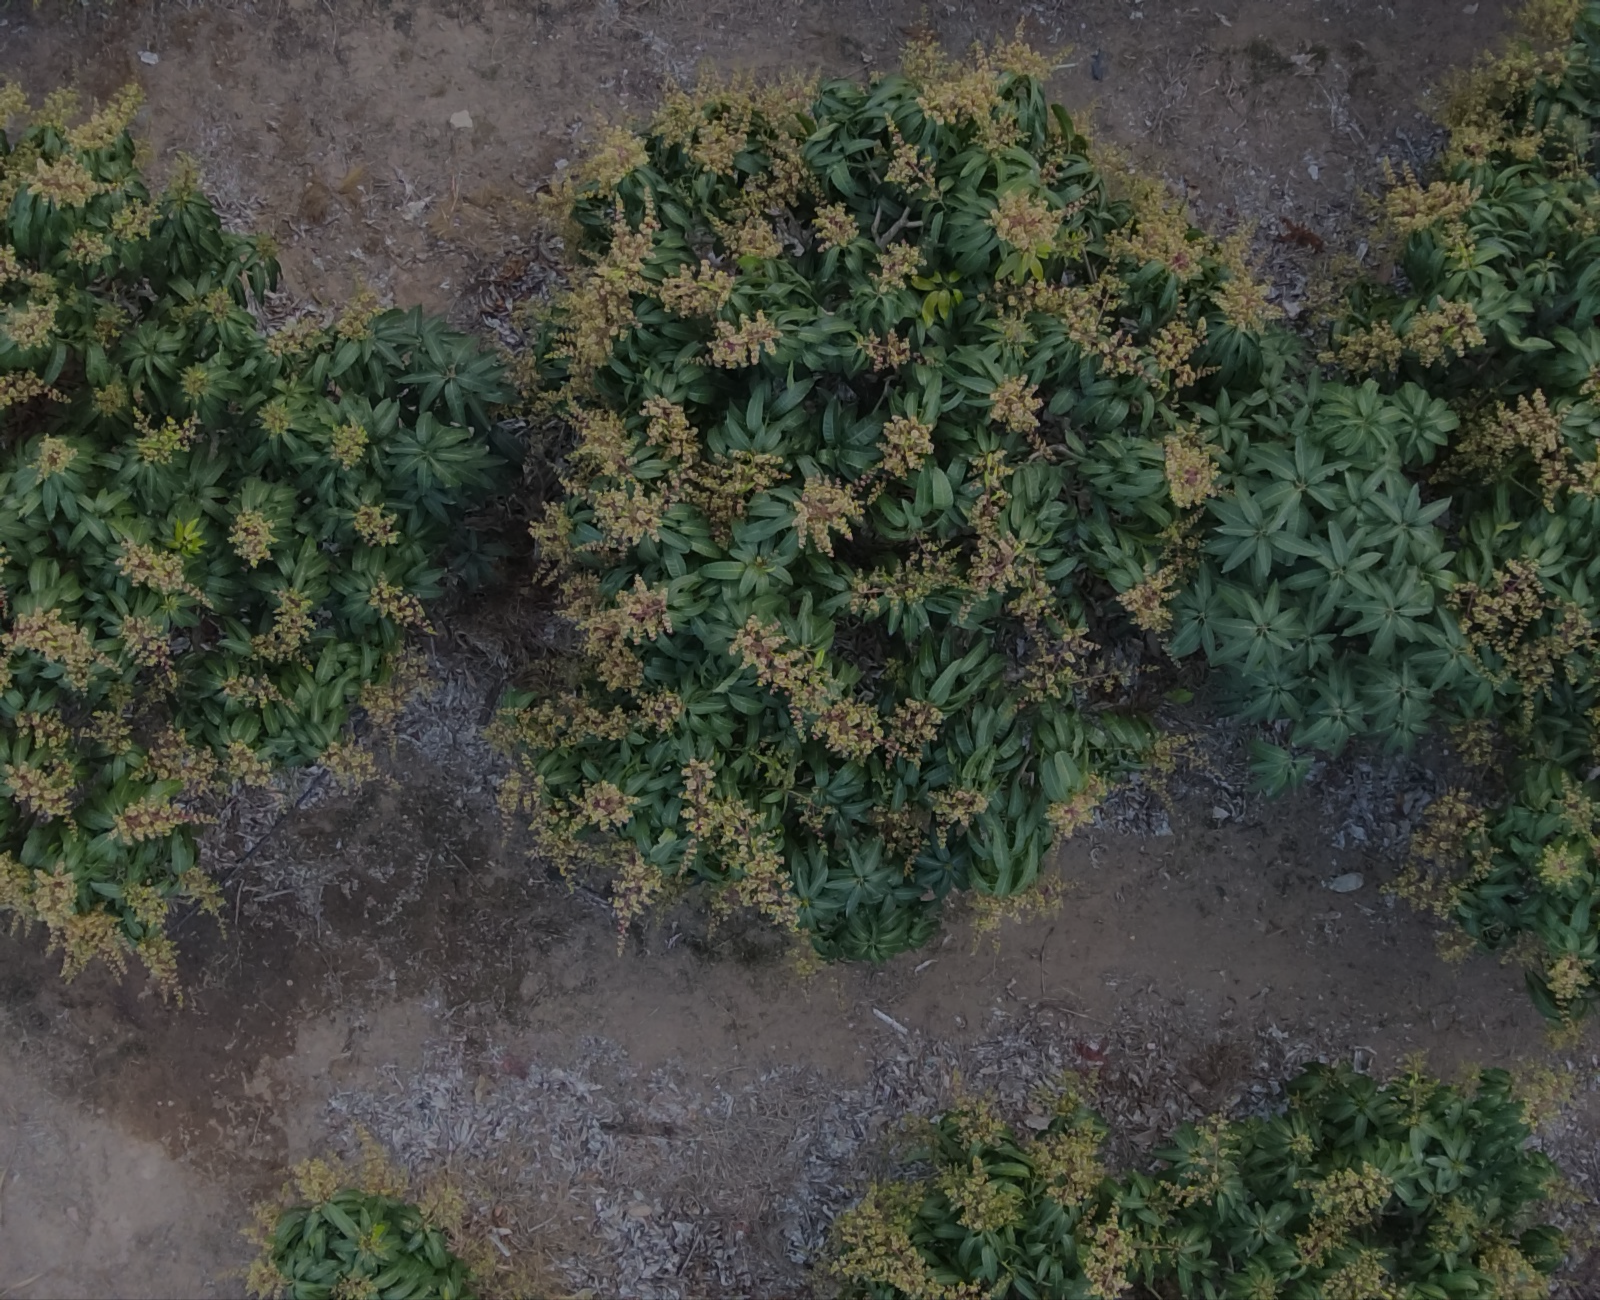flowers: (846, 448, 1118, 700), (938, 1092, 1240, 1299), (0, 608, 275, 795), (577, 77, 854, 257), (532, 199, 657, 493), (488, 572, 685, 751), (731, 616, 943, 760), (681, 757, 823, 972), (498, 757, 662, 934), (988, 273, 1217, 390), (244, 1138, 407, 1299), (1447, 556, 1599, 724), (1106, 182, 1274, 333), (0, 852, 178, 994), (1432, 361, 1599, 509), (1443, 0, 1581, 168), (1117, 422, 1223, 631), (639, 395, 787, 545), (793, 414, 933, 553), (829, 1181, 991, 1299), (0, 84, 141, 216), (901, 38, 1052, 150), (1384, 788, 1490, 918), (529, 483, 663, 582), (1319, 296, 1485, 373), (1381, 158, 1479, 267), (415, 1169, 503, 1289), (1295, 1161, 1390, 1264), (754, 742, 837, 854), (1039, 102, 1137, 196), (92, 379, 198, 462), (265, 289, 387, 354), (988, 187, 1095, 260), (5, 708, 76, 818), (968, 872, 1063, 952), (357, 643, 433, 740), (1536, 773, 1592, 886), (0, 244, 60, 348), (68, 198, 157, 263), (115, 537, 206, 600), (1140, 731, 1209, 808), (988, 374, 1051, 458), (691, 310, 781, 367), (114, 796, 216, 842), (249, 588, 314, 661), (884, 118, 941, 198), (654, 259, 734, 314), (1477, 1236, 1547, 1299), (1045, 773, 1109, 837), (857, 329, 949, 371), (869, 803, 925, 872), (1546, 952, 1591, 1031), (367, 577, 431, 631), (1321, 1250, 1392, 1299), (1390, 1055, 1438, 1126), (930, 787, 987, 842), (317, 738, 379, 784), (870, 239, 923, 292), (1429, 1197, 1477, 1254), (0, 370, 69, 409), (230, 508, 276, 565), (179, 865, 226, 917), (1449, 718, 1494, 765), (222, 673, 285, 704), (352, 503, 398, 544), (33, 435, 76, 479), (165, 153, 199, 206), (329, 421, 367, 467), (1435, 927, 1474, 964), (93, 302, 125, 345), (1546, 1174, 1588, 1204), (257, 395, 291, 434), (334, 1271, 374, 1299), (180, 363, 208, 397)
